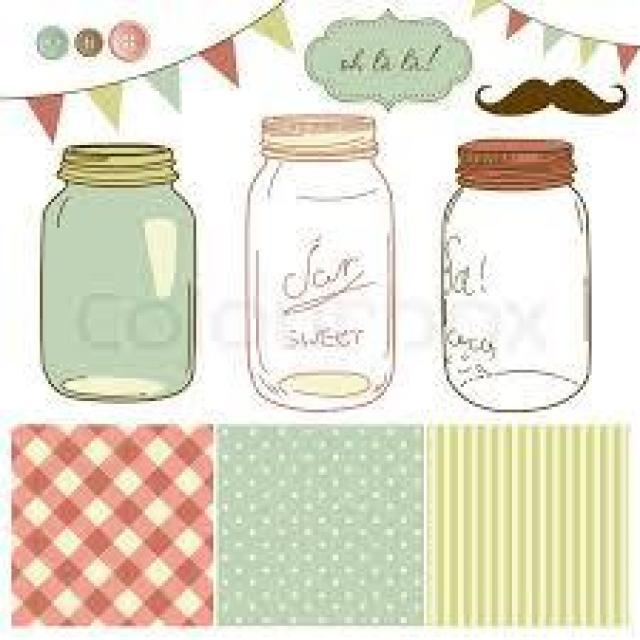Glass: (243, 111, 397, 412), (438, 139, 594, 417), (38, 139, 200, 406)
